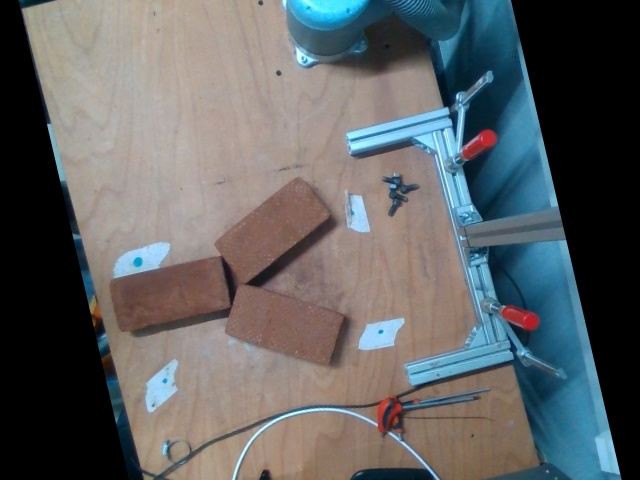brick: (213, 174, 331, 284), (226, 283, 342, 367), (111, 259, 230, 329)
